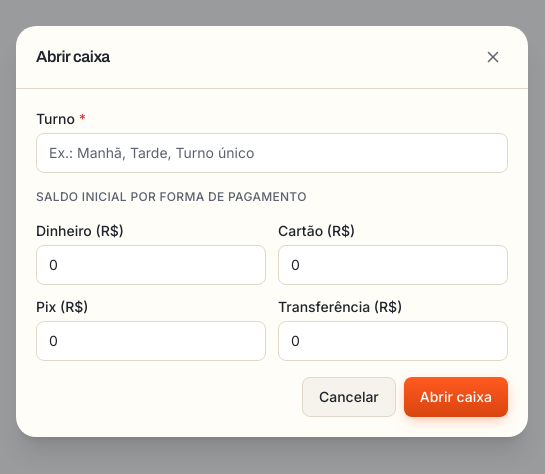
Scenario: AbrirCaixaModal › requires a turno before submitting
Click the button "Abrir caixa" at (456, 396), box [404,376,508,416]
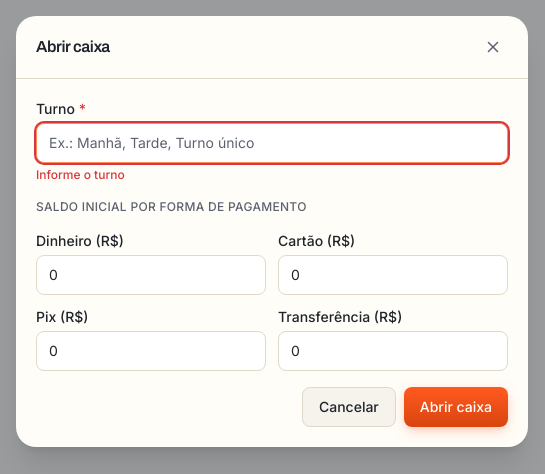
expect the text "Informe o turno" is shown: met, box [36,166,125,182]
